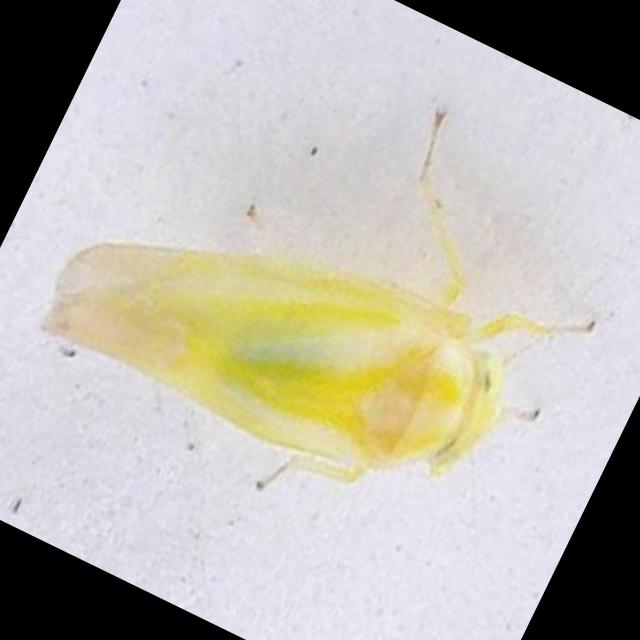green-leafhopper: (16, 119, 551, 554)
